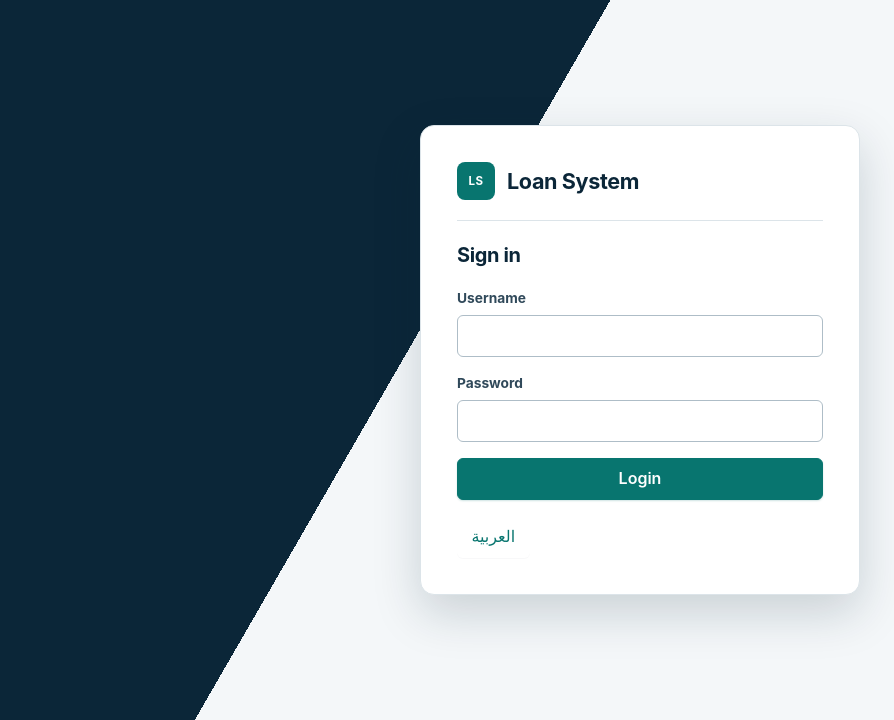
identity UI › shows login after unauthenticated me and generic failure
Type "nobody" into the field labelled "Username". click: {"x": 640, "y": 336}
box: 457,315 -> 823,357
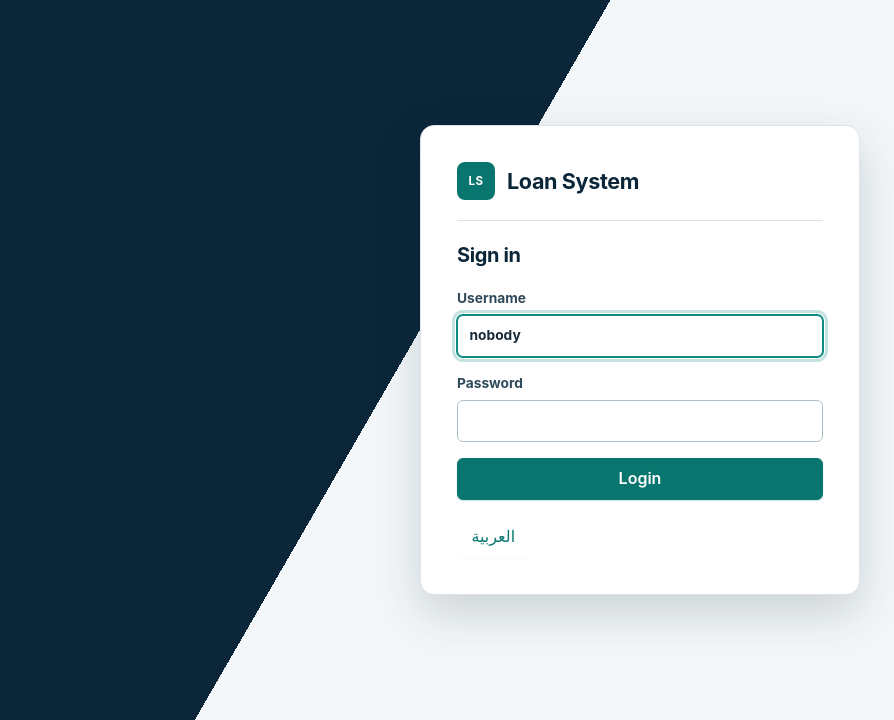
Type "wrong" into the password field labelled "Password". click: {"x": 640, "y": 420}
box: 457,400 -> 823,442
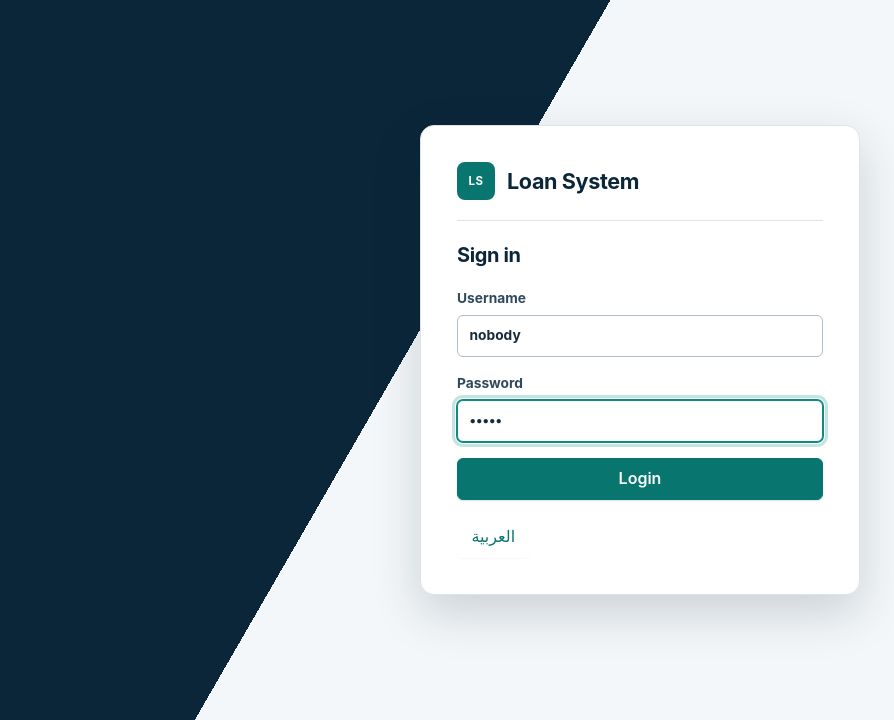
Click the button "Login". click: {"x": 640, "y": 478}
box: 457,458 -> 823,500
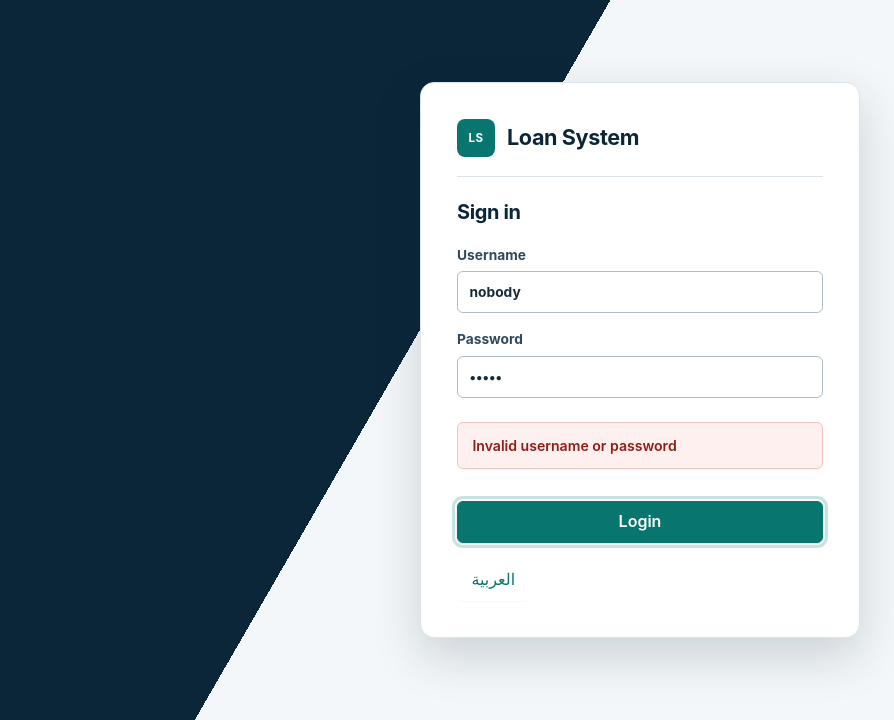
Check: the message reads "Invalid username or password", box 472,437 -> 677,454
